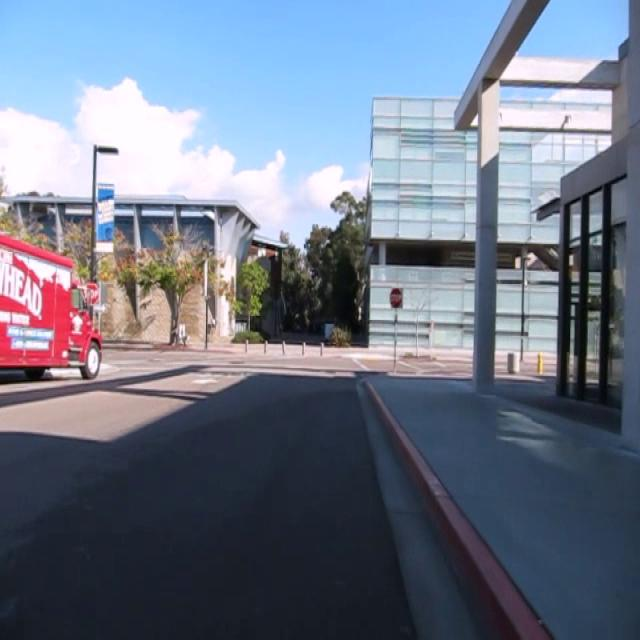stop: (81, 282, 99, 306), (389, 287, 403, 309)
